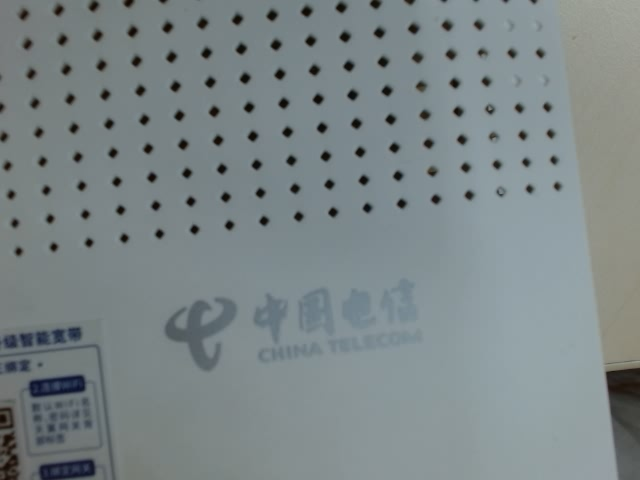AB_ChinaTelecom: (158, 272, 437, 379)
